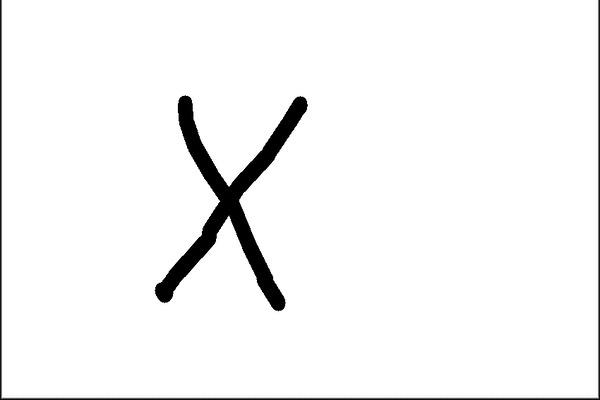X: (145, 83, 318, 319)
